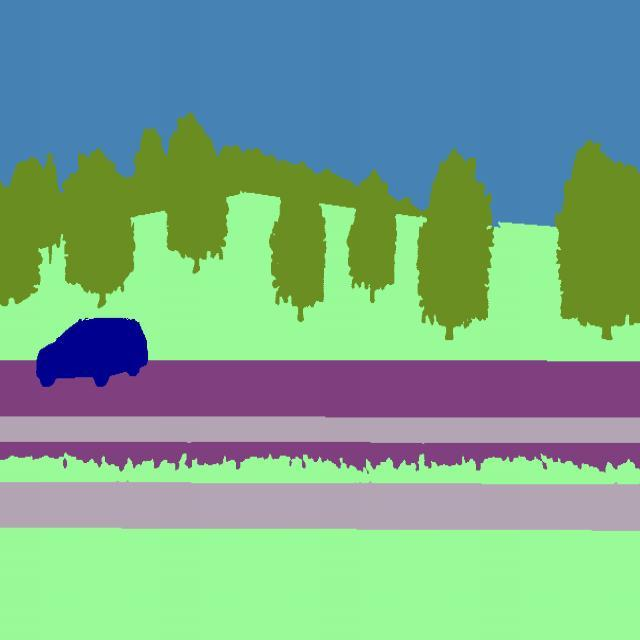safe: (36, 313, 150, 394)
